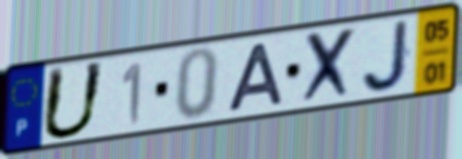0: (170, 44, 224, 124)
1: (120, 60, 143, 126)
A: (223, 41, 287, 115)
J: (359, 17, 413, 96)
U: (38, 59, 109, 143)
X: (298, 23, 359, 108)
